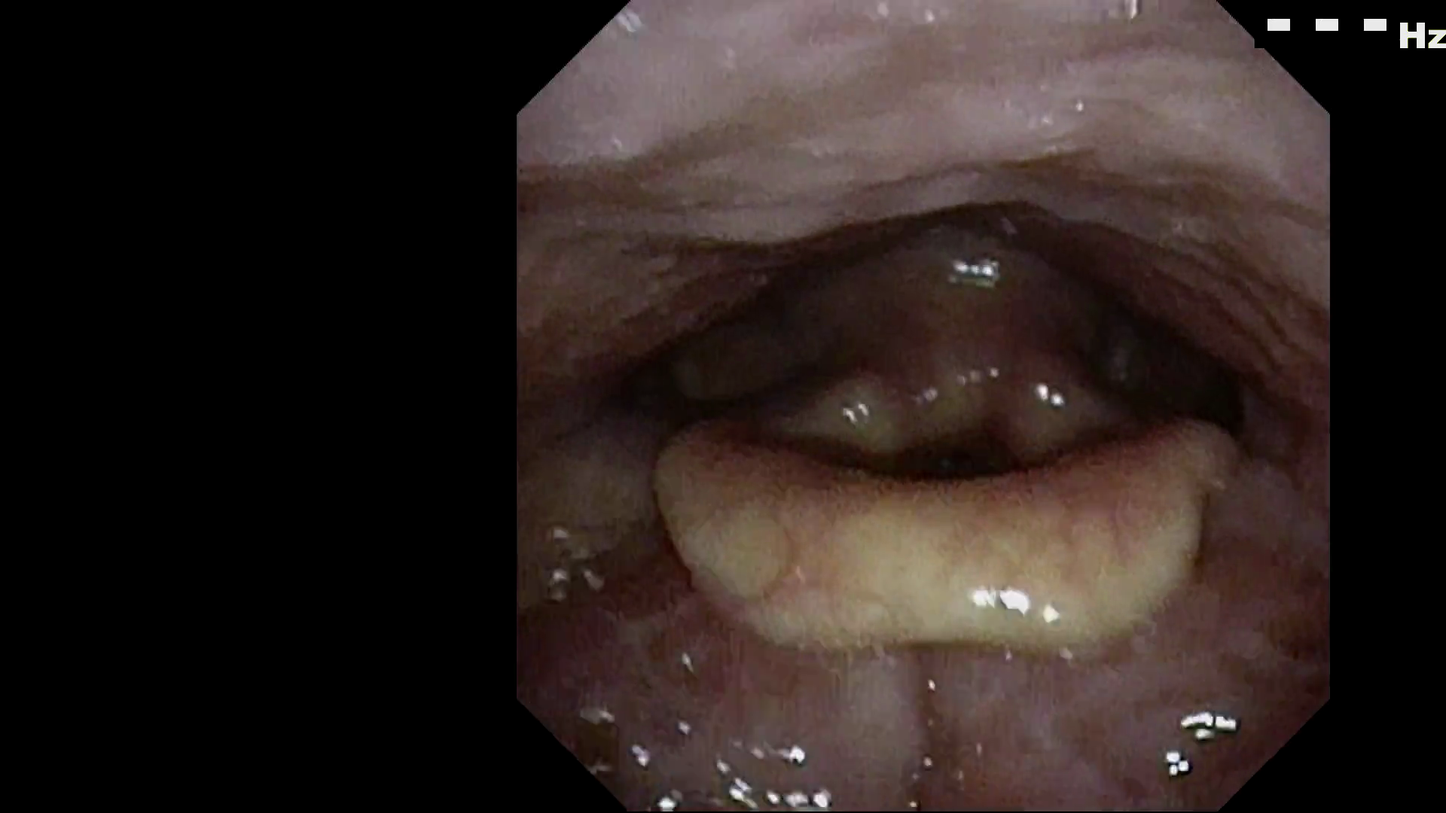epiglottis: (653, 429, 1206, 643)
